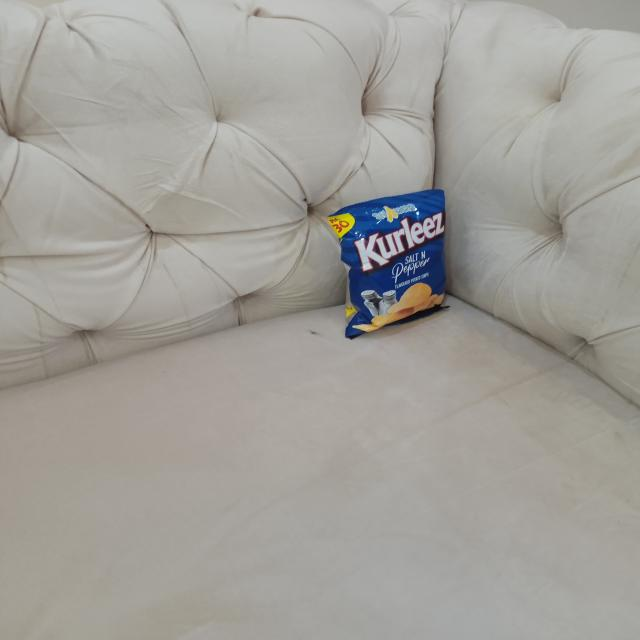Plastic: (337, 194, 445, 332)
